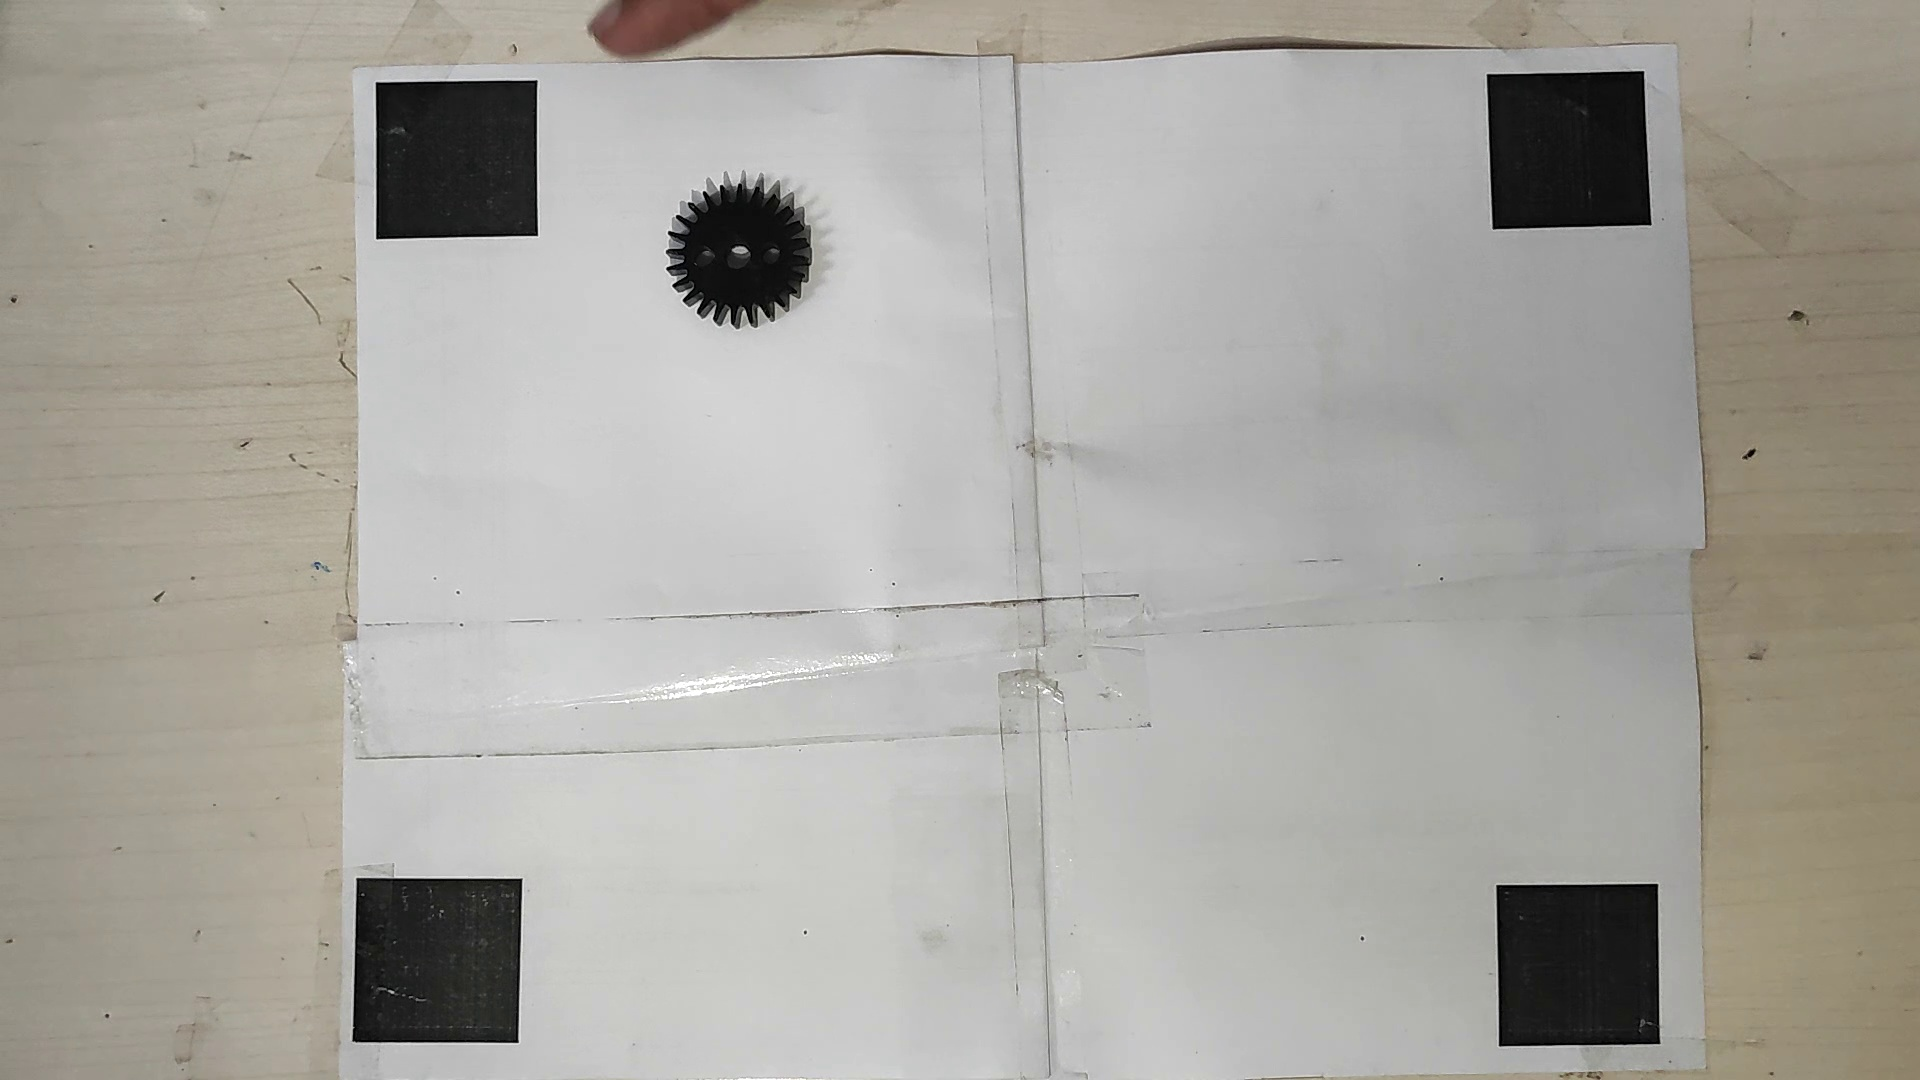Gear: (663, 175, 816, 330)
